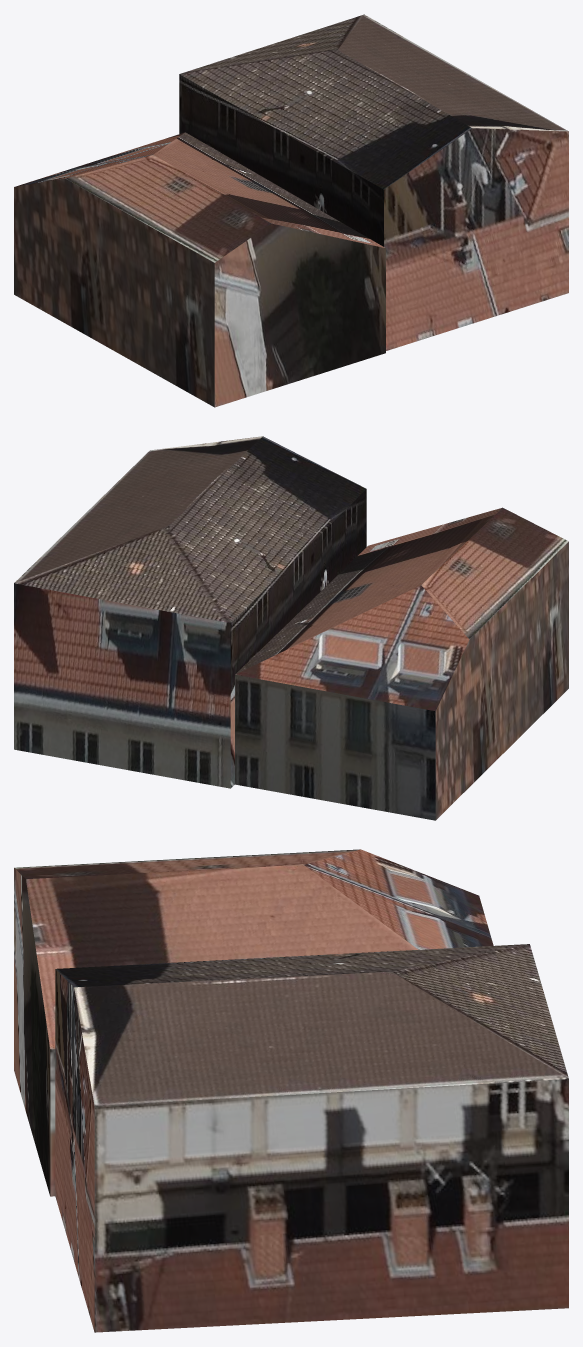
3 views of the same model, one above another, from view 1: azimuth 30°, elevation 25°; view 2: azimuth 150°, elevation 25°; view 3: azimuth 270°, elevation 25° (orthographic). The views are drawn at different scales.
Visible parts, largest first — view 1: Z_UP; view 2: Z_UP; view 3: Z_UP.
Boxes of the visible parts, bbox=[...] form: Z_UP: bbox=[14, 14, 568, 407]; Z_UP: bbox=[14, 436, 568, 820]; Z_UP: bbox=[14, 849, 568, 1332].
Bounding box in the file's own units: 21.84 × 9.79 × 17.91.
Materials: 2 (1 with a texture image).
